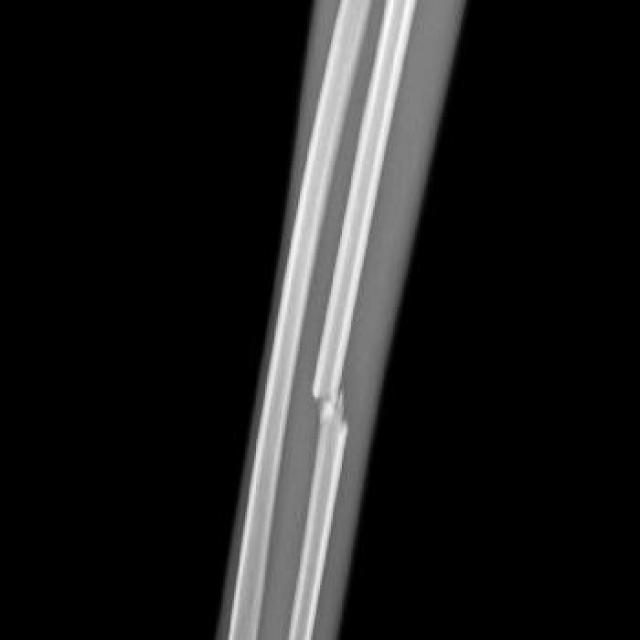Fracture: (307, 366, 352, 458)
